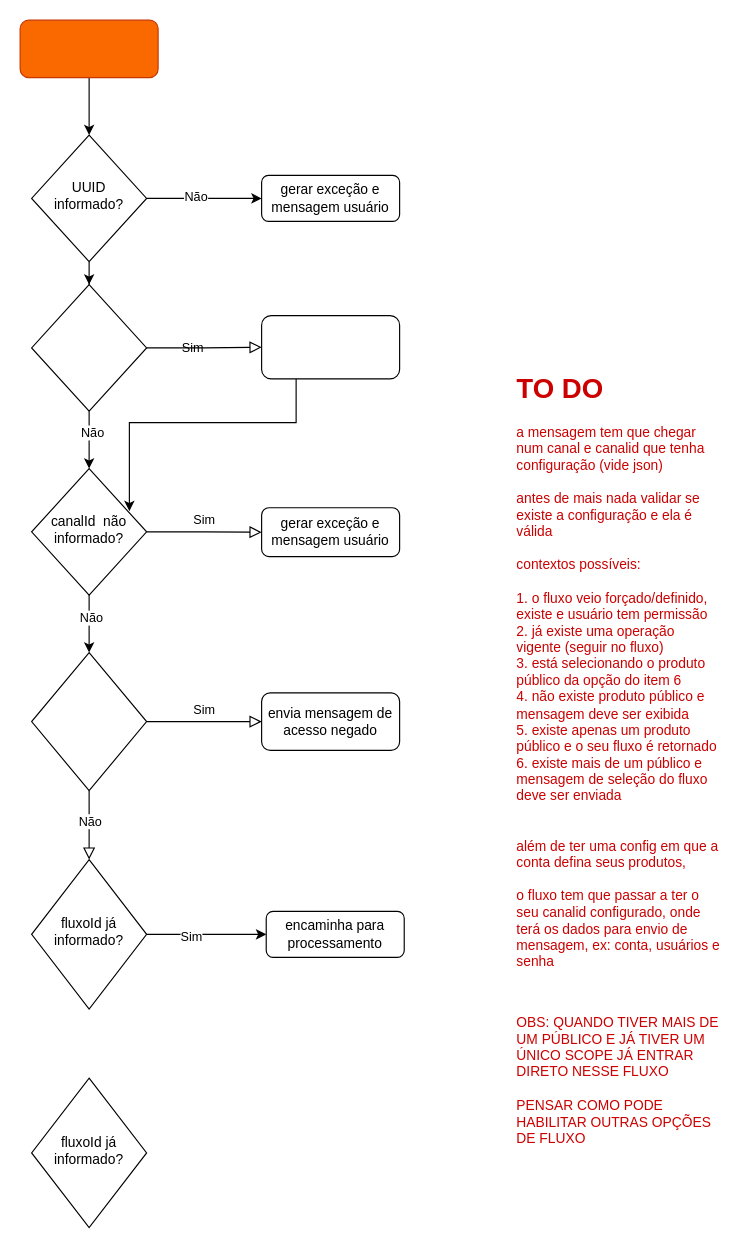
The diagram is 742 pixels wide and 1251 high, and some of its shapes have lost their labels. Each missing label, with the box of its shape:
Cria usuário com data de primeiro acesso: (260, 315, 400, 379)
mensagem enviada pelo usuário ou sistema: (19, 19, 158, 78)
primeiro acesso Zappa na conta X?: (30, 283, 147, 411)
Usuário bloqueado?: (30, 651, 147, 791)
